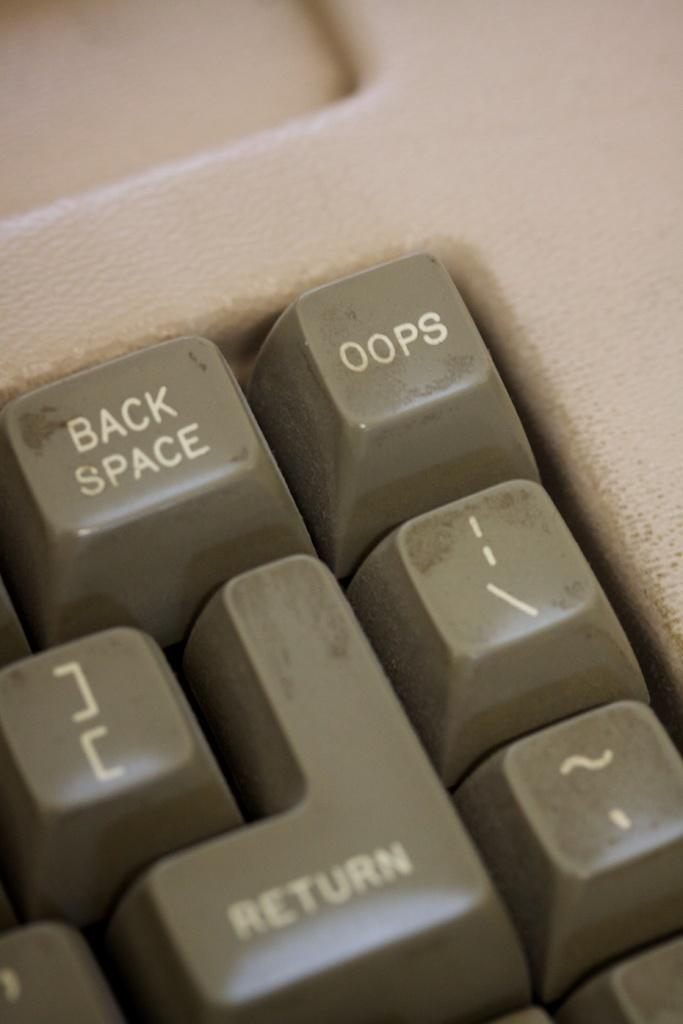Computer-keyboard: (0, 242, 682, 1023)
